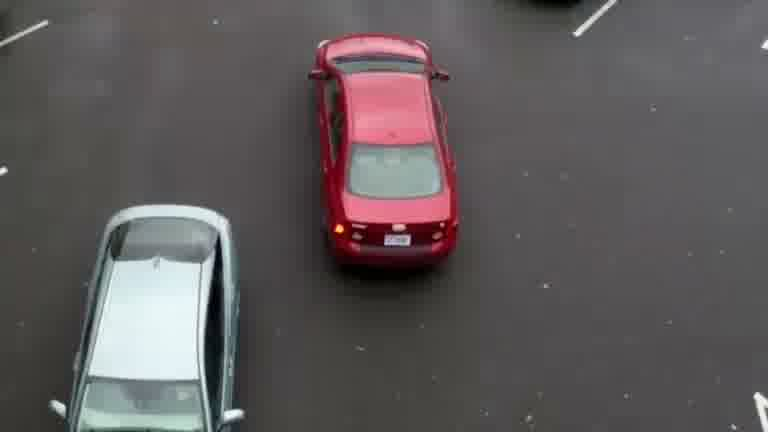car: (32, 172, 263, 432), (280, 20, 502, 267)
